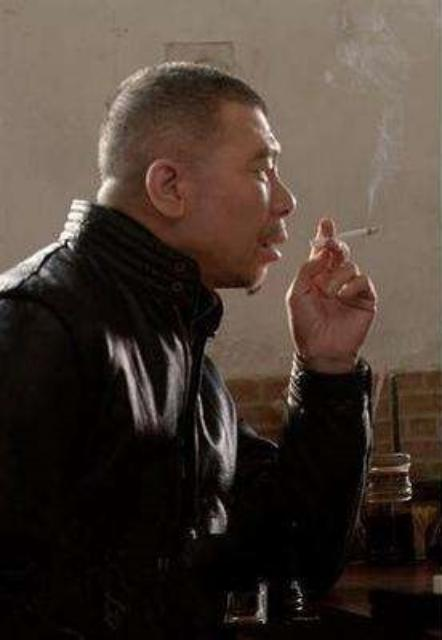Cigarette: (298, 218, 386, 250)
